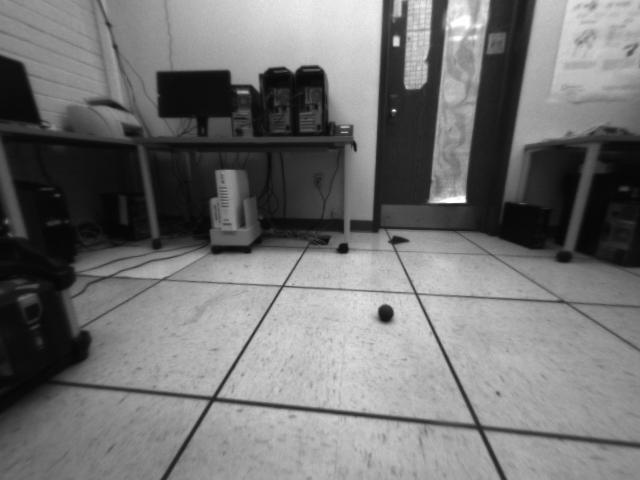dogtoy: (372, 297, 402, 330)
